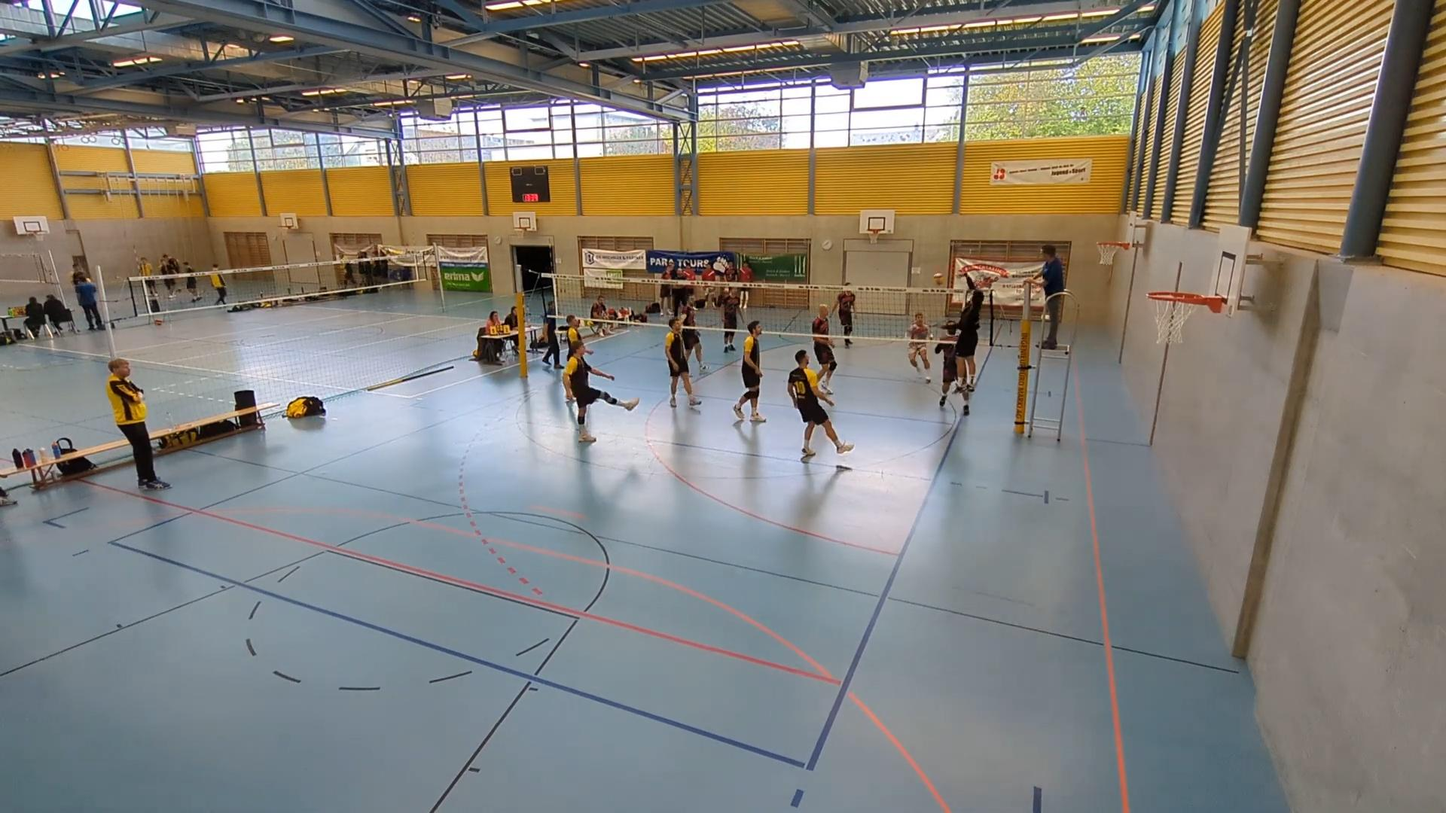Attack: (957, 263, 989, 395)
Player: (564, 346, 638, 442), (788, 350, 853, 458), (664, 317, 701, 406), (734, 320, 765, 422), (811, 305, 837, 394), (934, 322, 956, 406), (682, 302, 706, 370), (908, 312, 931, 382), (719, 289, 740, 352), (834, 288, 856, 347)
